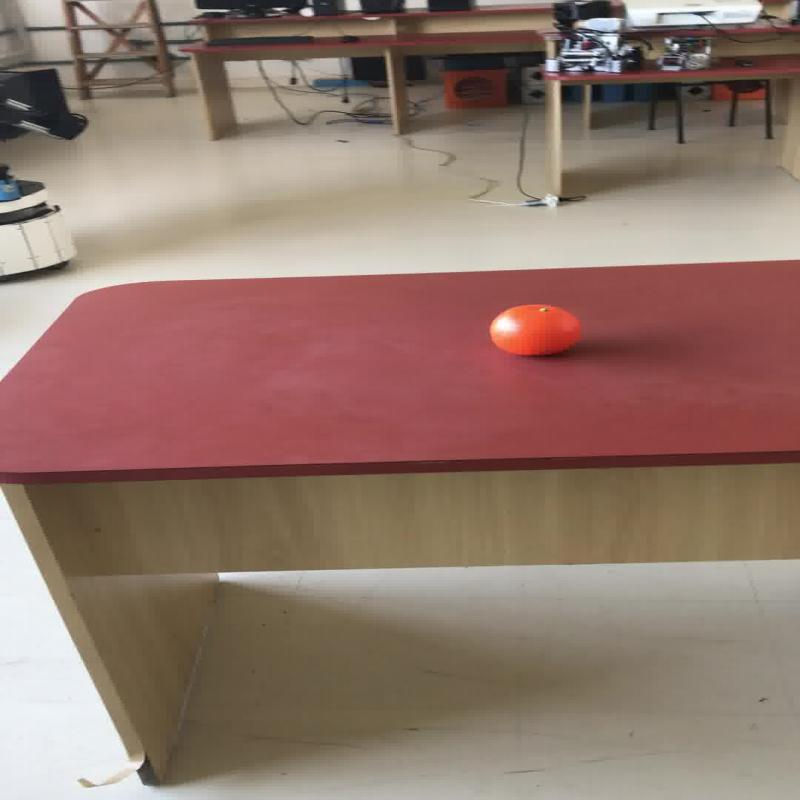orange: (486, 303, 580, 356)
